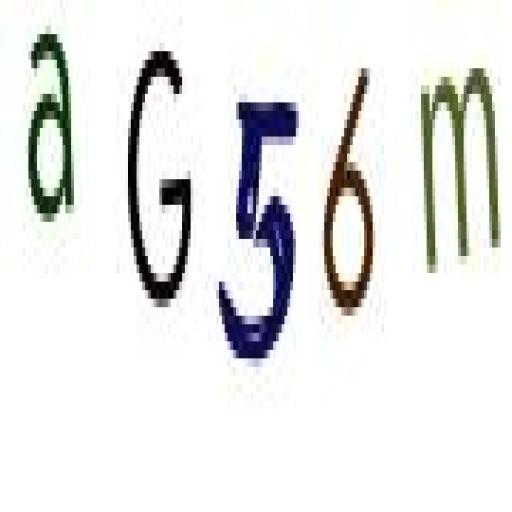5: (213, 74, 299, 374)
6: (322, 44, 383, 331)
G: (120, 30, 194, 324)
a: (22, 23, 78, 239)
m: (416, 52, 504, 278)
